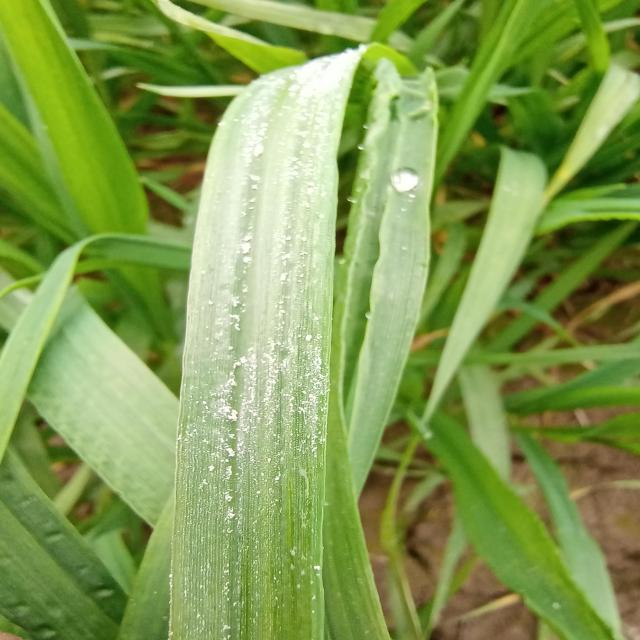Powdery Mildew: (216, 98, 362, 640)
